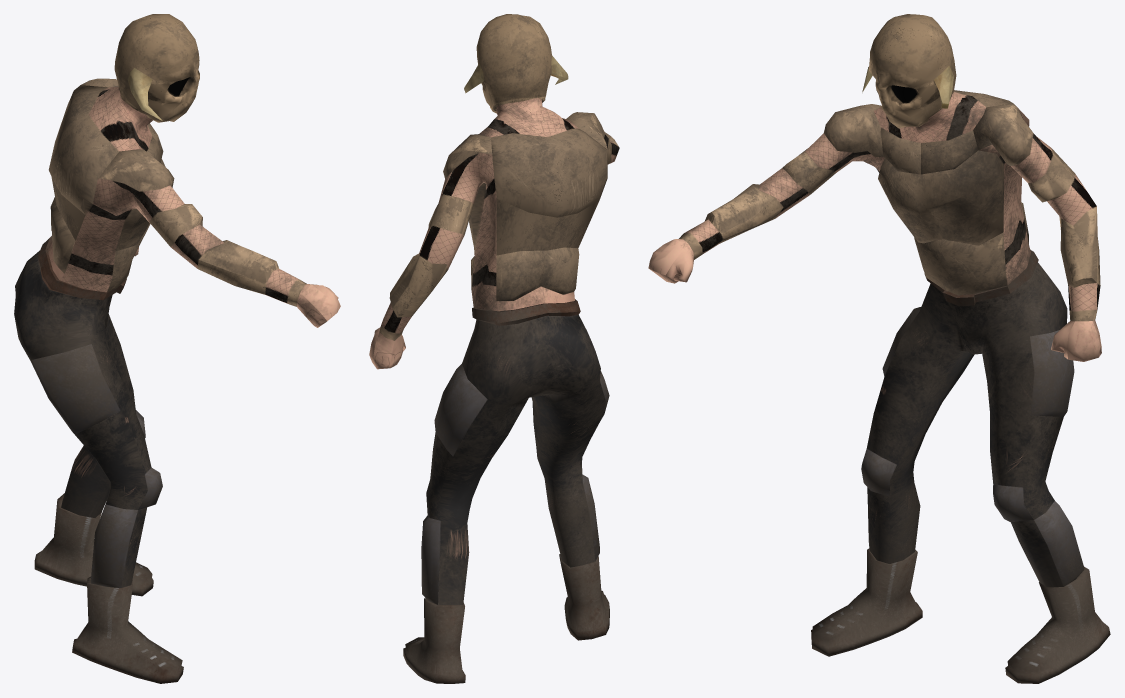
Rendered from Anim_interruptor_npc1.0027.obj.
3 views of the same model, side by side, from view 1: azimuth 30°, elevation 25°; view 2: azimuth 150°, elevation 25°; view 3: azimuth 270°, elevation 25° (orthographic). The views are drawn at different scales.
Visible parts, largest first — view 1: NPC2; view 2: NPC2; view 3: NPC2.
Boxes of the visible parts, <box> form: NPC2: <box>14,14,340,683</box>; NPC2: <box>369,14,619,683</box>; NPC2: <box>648,14,1110,683</box>.
Bounding box in the file's own units: 2.79 × 9.19 × 5.95.
